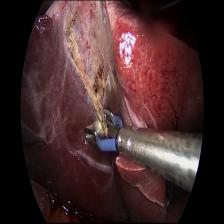Bipolar: (83, 102, 127, 162)
